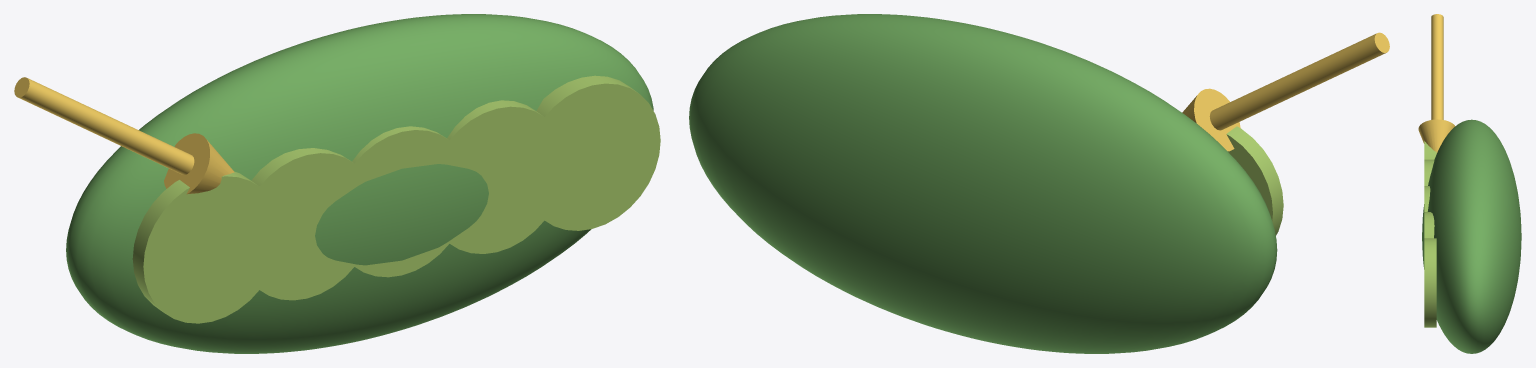
File: bio-p1-chloroplast.glb
3 renders of one model, left to right at view 1: azimuth 30°, elevation 25°; view 2: azimuth 150°, elevation 25°; view 3: azimuth 270°, elevation 25°, orthographic. The views are drawn at different scales.
Parts seen in each view (by area): view 1: chloroplast-green-oval, stacked-thylakoid-disc-0, stacked-thylakoid-disc-4, stacked-thylakoid-disc-3, stacked-thylakoid-disc-1, stacked-thylakoid-disc-2, sunlight-to-sugar-arrow-shaft, sunlight-to-sugar-arrow-head; view 2: chloroplast-green-oval, sunlight-to-sugar-arrow-shaft, stacked-thylakoid-disc-0, sunlight-to-sugar-arrow-head; view 3: chloroplast-green-oval, sunlight-to-sugar-arrow-shaft, stacked-thylakoid-disc-4, sunlight-to-sugar-arrow-head, stacked-thylakoid-disc-3, stacked-thylakoid-disc-1, stacked-thylakoid-disc-0, stacked-thylakoid-disc-2.
Part boxes in pixels (bbox=[...]): chloroplast-green-oval: bbox=[66, 14, 653, 353]; stacked-thylakoid-disc-0: bbox=[132, 171, 280, 323]; stacked-thylakoid-disc-4: bbox=[525, 75, 660, 230]; stacked-thylakoid-disc-3: bbox=[436, 100, 564, 253]; stacked-thylakoid-disc-1: bbox=[238, 148, 368, 300]; stacked-thylakoid-disc-2: bbox=[336, 126, 449, 277]; sunlight-to-sugar-arrow-shaft: bbox=[14, 77, 194, 174]; sunlight-to-sugar-arrow-head: bbox=[164, 133, 234, 194]; chloroplast-green-oval: bbox=[689, 14, 1277, 353]; sunlight-to-sugar-arrow-shaft: bbox=[1209, 32, 1389, 130]; stacked-thylakoid-disc-0: bbox=[1226, 126, 1283, 235]; sunlight-to-sugar-arrow-head: bbox=[1182, 88, 1240, 151]; chloroplast-green-oval: bbox=[1422, 119, 1521, 353]; sunlight-to-sugar-arrow-shaft: bbox=[1431, 14, 1443, 119]; stacked-thylakoid-disc-4: bbox=[1424, 238, 1436, 327]; sunlight-to-sugar-arrow-head: bbox=[1418, 119, 1455, 153]; stacked-thylakoid-disc-3: bbox=[1424, 212, 1434, 238]; stacked-thylakoid-disc-1: bbox=[1424, 159, 1434, 185]; stacked-thylakoid-disc-0: bbox=[1424, 141, 1436, 159]; stacked-thylakoid-disc-2: bbox=[1424, 186, 1430, 211].
Size of what is drawn, in the model's own units: 1.26 by 0.6665 by 0.2994.
